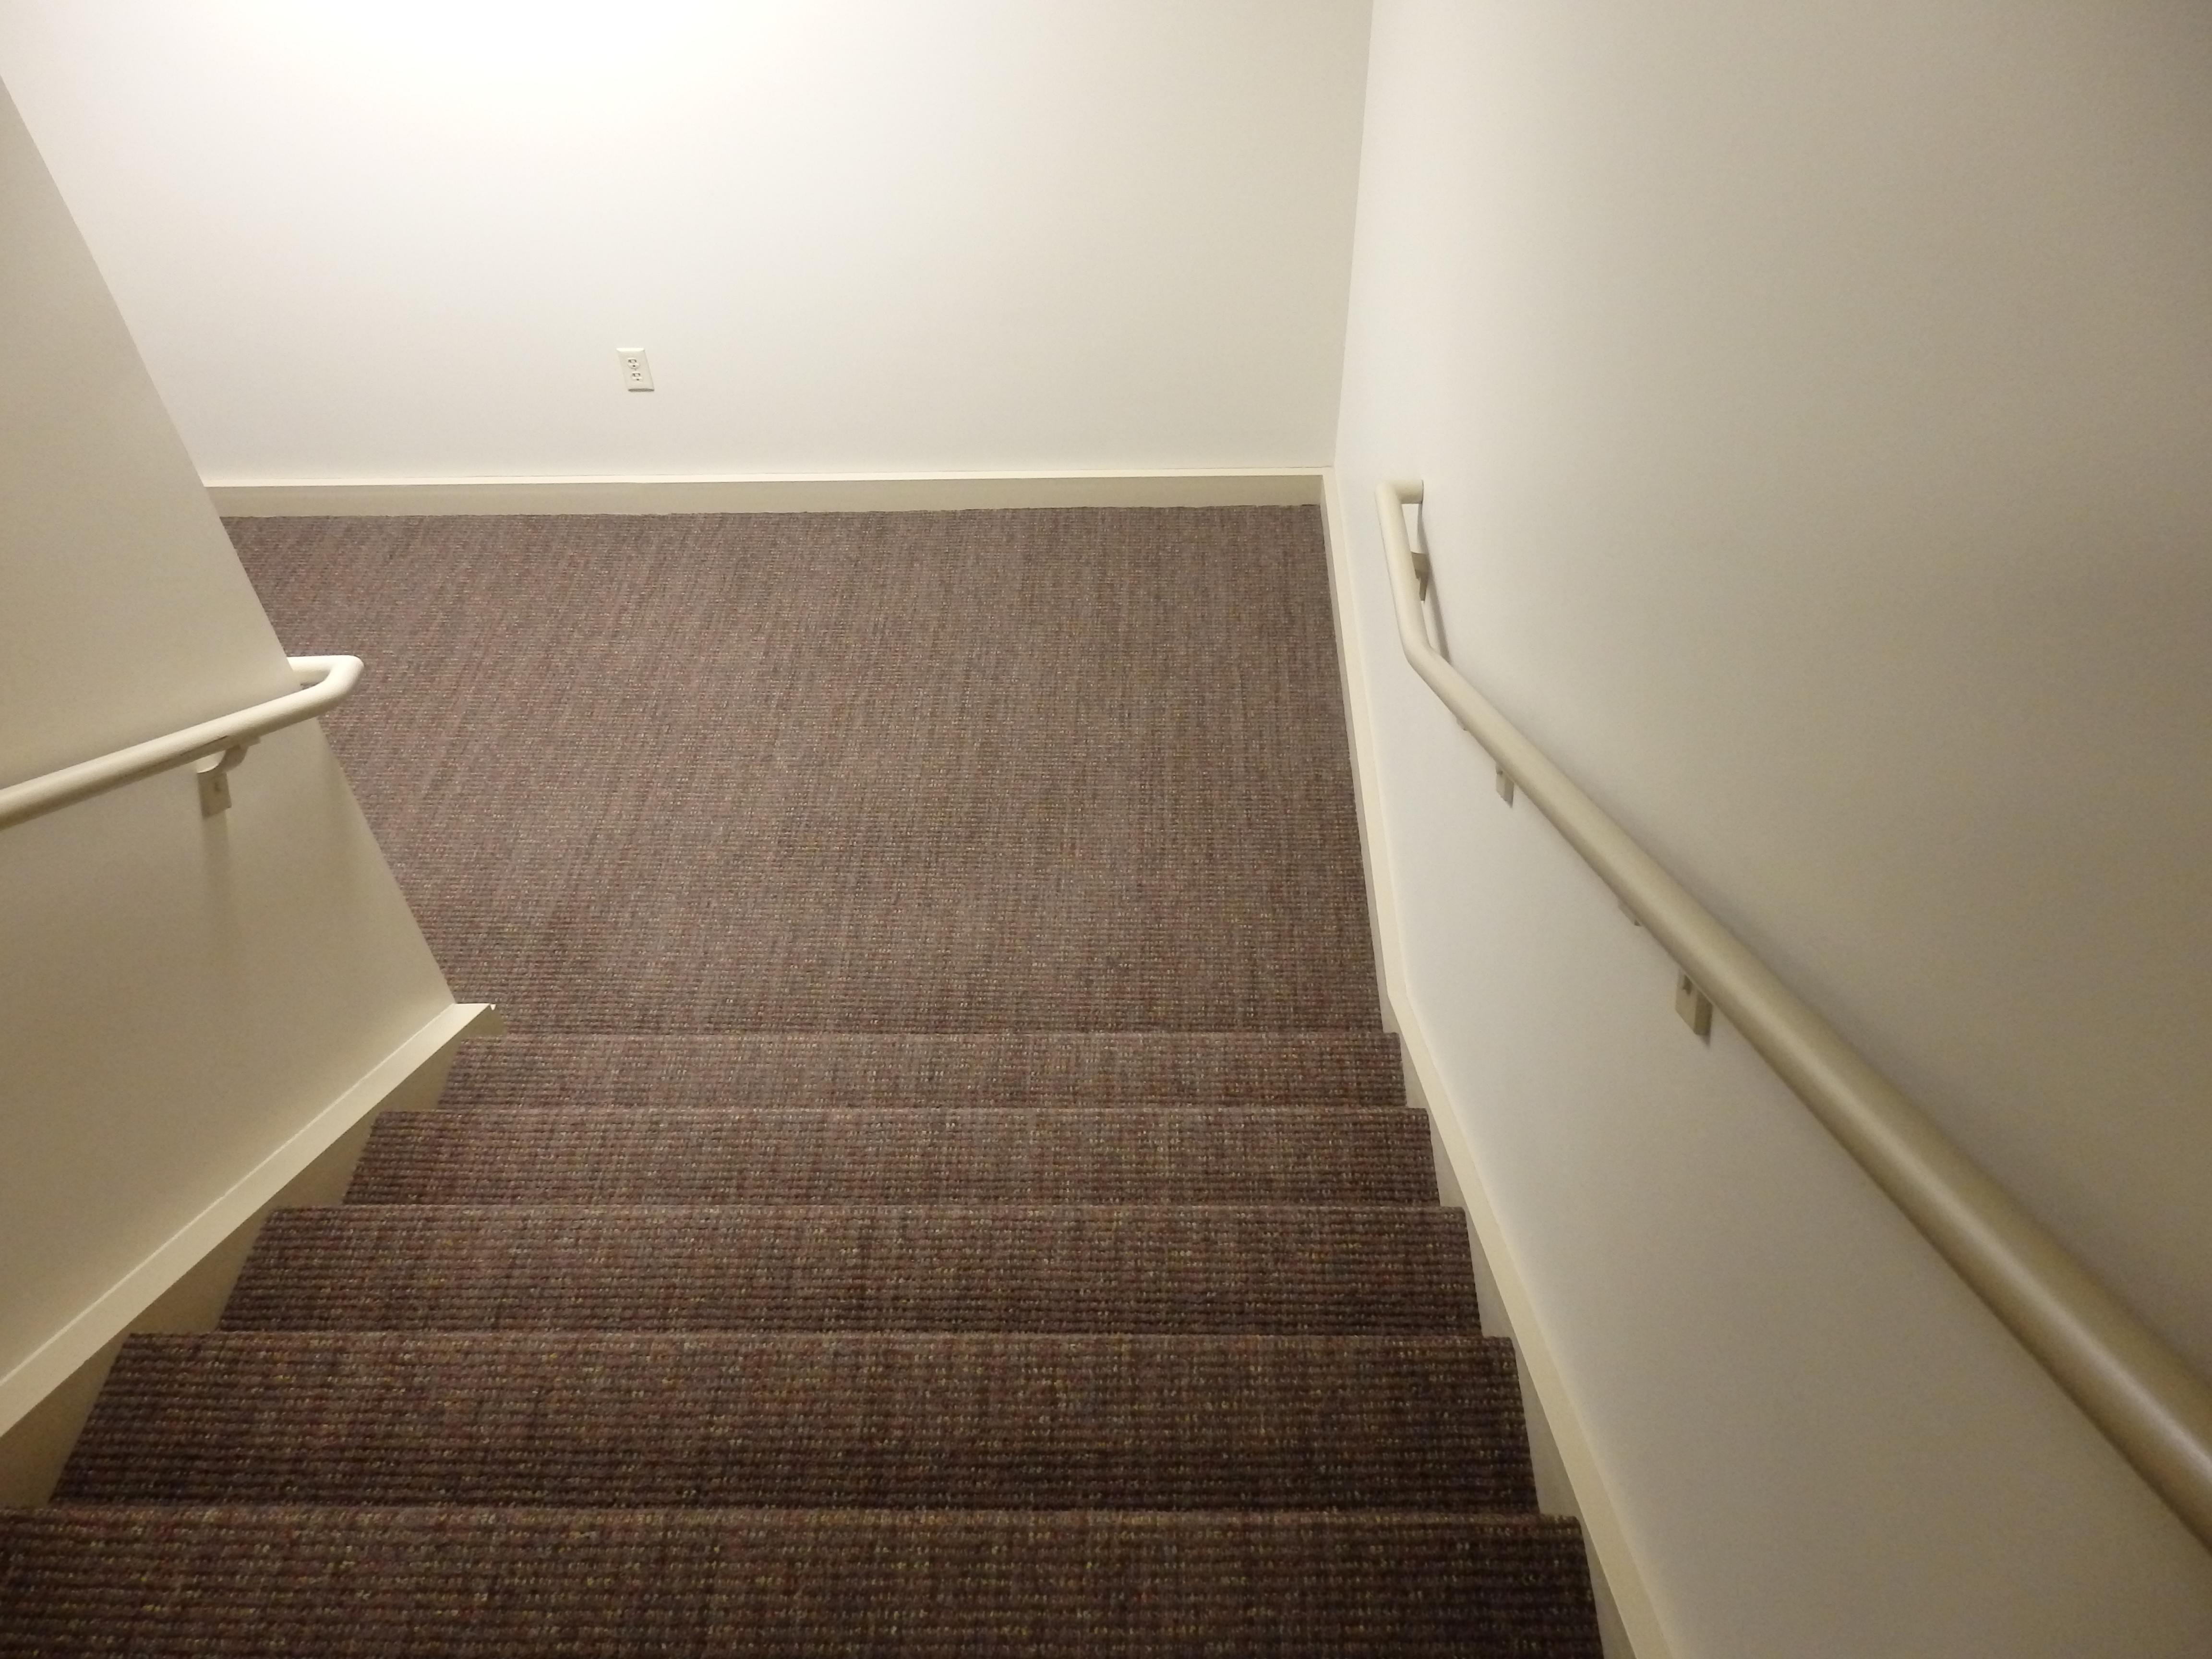stairs_down: (24, 871, 1618, 1601)
